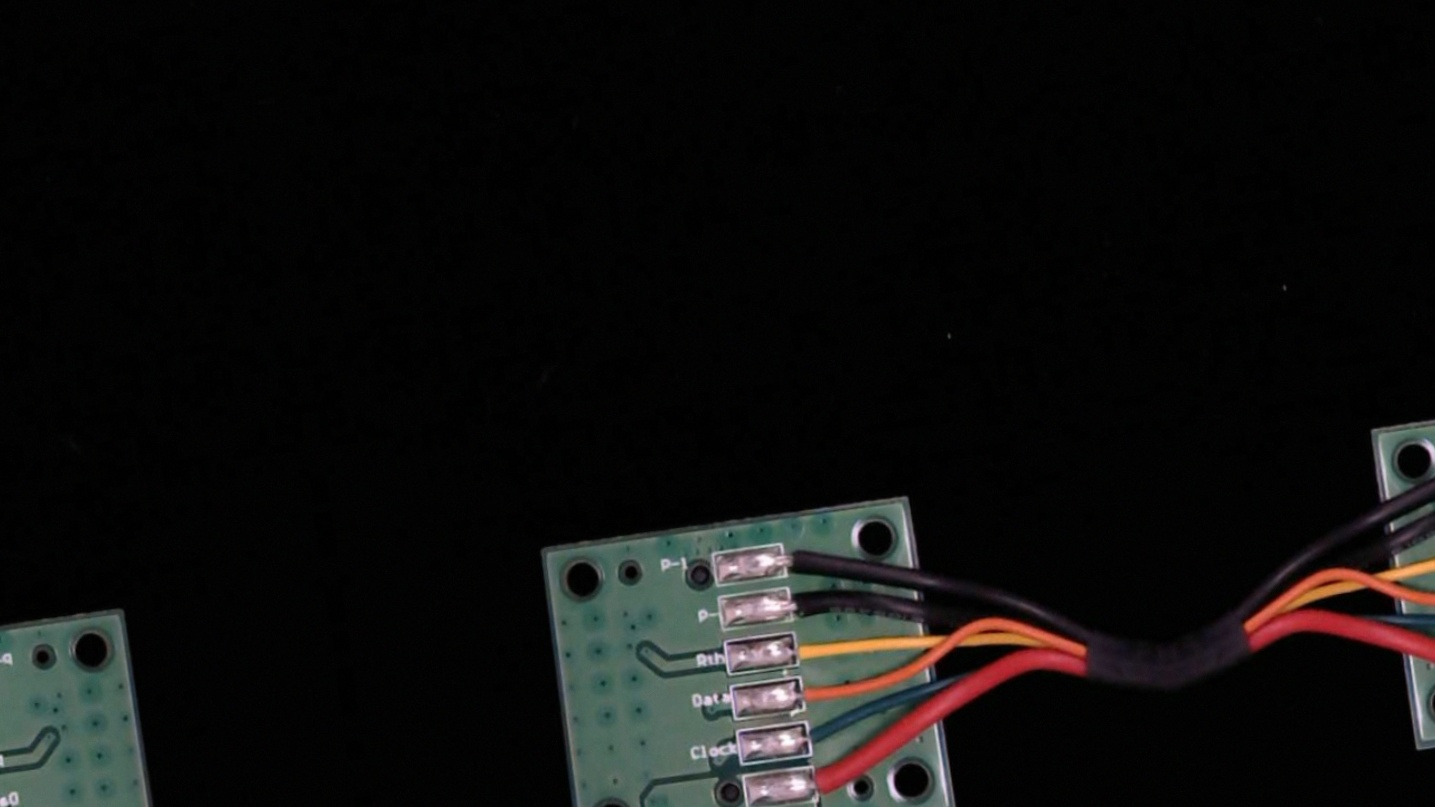Black: (769, 584, 845, 626)
Black1: (763, 537, 836, 579)
Green: (787, 713, 860, 758)
Orange: (781, 669, 855, 717)
Red: (795, 759, 873, 802)
Yellow: (774, 625, 858, 671)
